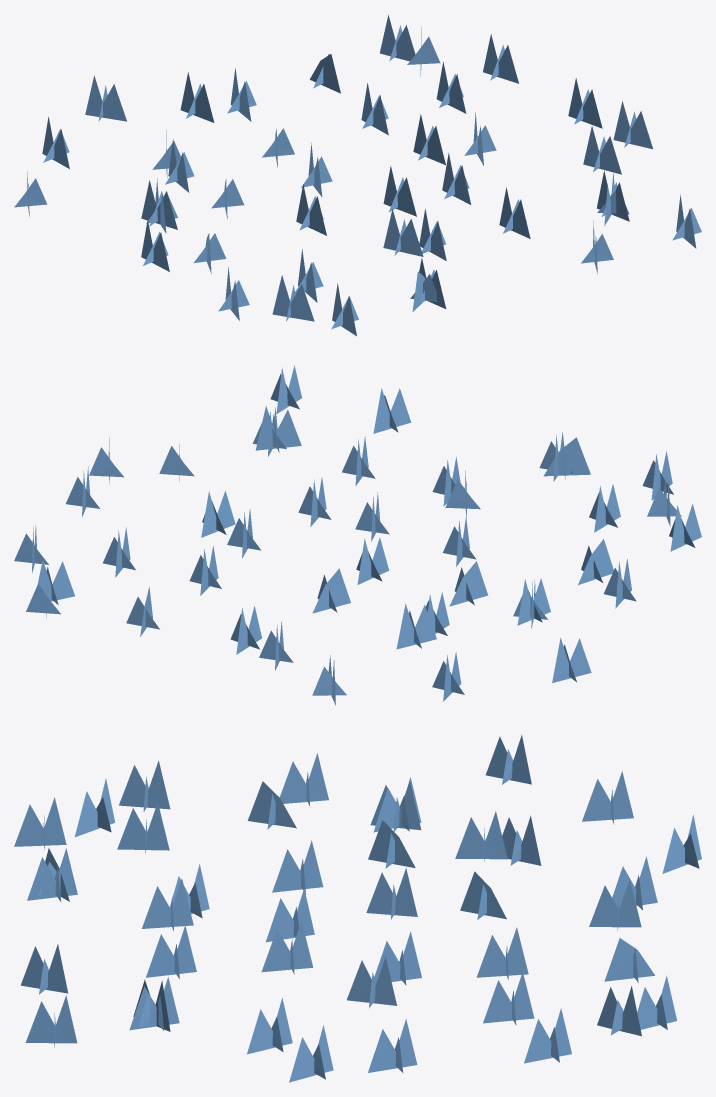
The model's file is grass.obj.
The picture shows the model from 3 angles, top to bottom: view 1: azimuth 30°, elevation 25°; view 2: azimuth 150°, elevation 25°; view 3: azimuth 270°, elevation 25°; orthographic projection. The views are drawn at different scales.
Visible parts, largest first — view 1: Extrude.1:0.1; view 2: Extrude.1:0.1; view 3: Extrude.1:0.1.
Boxes of the visible parts, box(x1,y1,x2,y2) form: Extrude.1:0.1: box(14, 14, 701, 336); Extrude.1:0.1: box(14, 365, 701, 705); Extrude.1:0.1: box(14, 735, 701, 1082).
Bounding box in the file's own units: 6.31 × 0.4644 × 5.93.
Materials: 1 (1 with a texture image).
